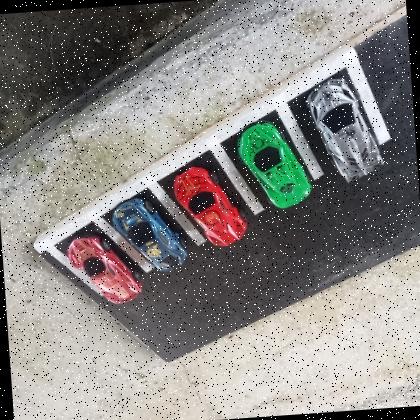Car: (304, 74, 386, 186), (234, 118, 314, 212), (172, 162, 249, 252), (112, 196, 191, 275), (67, 232, 142, 308)
